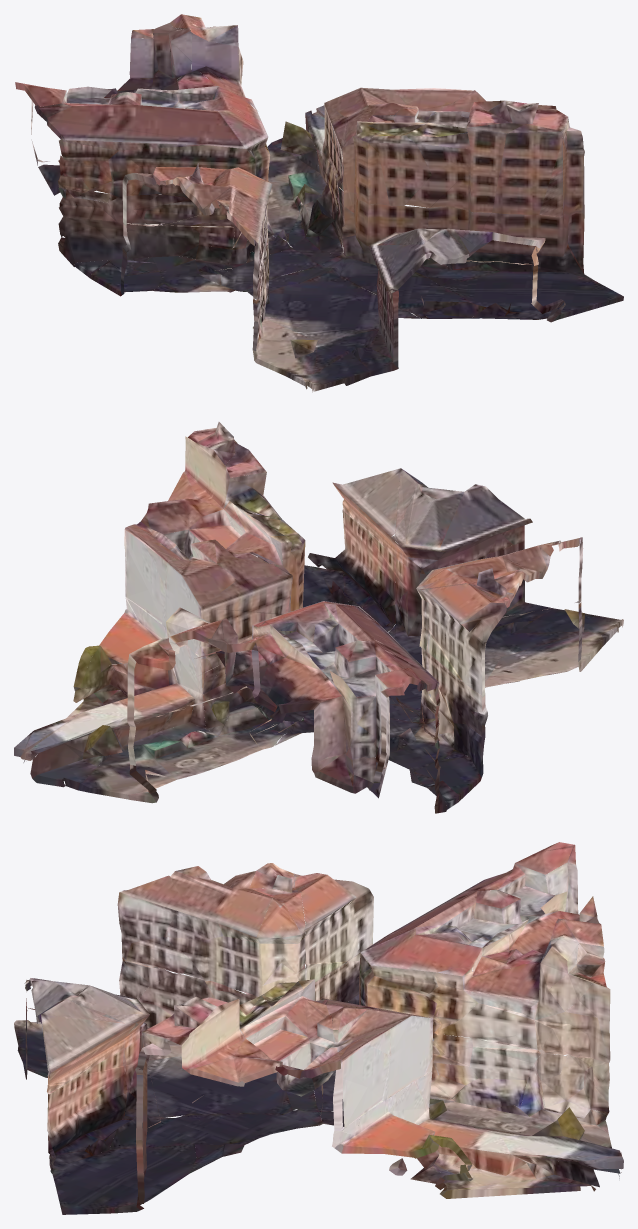
The picture shows the model from 3 angles, top to bottom: view 1: azimuth 30°, elevation 25°; view 2: azimuth 150°, elevation 25°; view 3: azimuth 270°, elevation 25°; orthographic projection. The views are drawn at different scales.
Parts seen in each view (by area): view 1: Mesh_0; view 2: Mesh_0; view 3: Mesh_0.
Boxes of the visible parts, x1=… form: Mesh_0: x1=15, y1=14, x2=623, y2=392; Mesh_0: x1=14, y1=422, x2=623, y2=813; Mesh_0: x1=14, y1=842, x2=623, y2=1214.
Bounding box in the file's own units: 66.85 × 30.09 × 82.38.
Materials: 2 (2 with a texture image).
